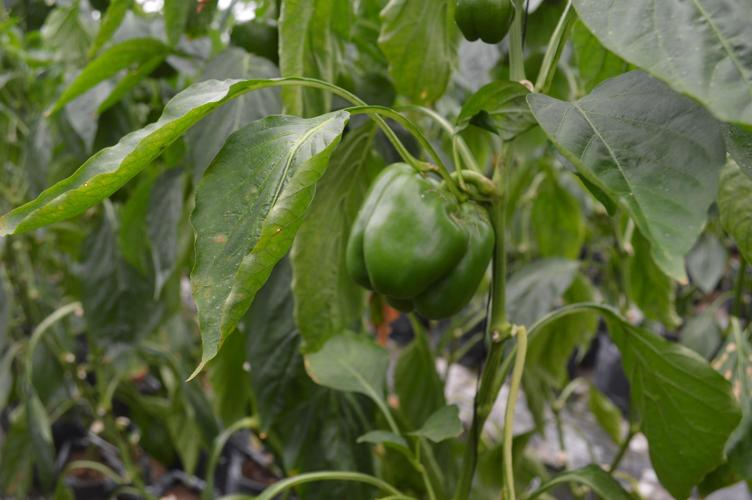BellPepper: (335, 155, 496, 333)
